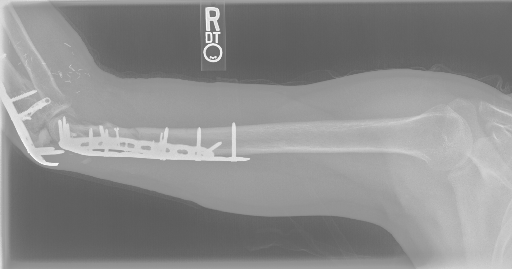implant: (53, 115, 254, 165)
